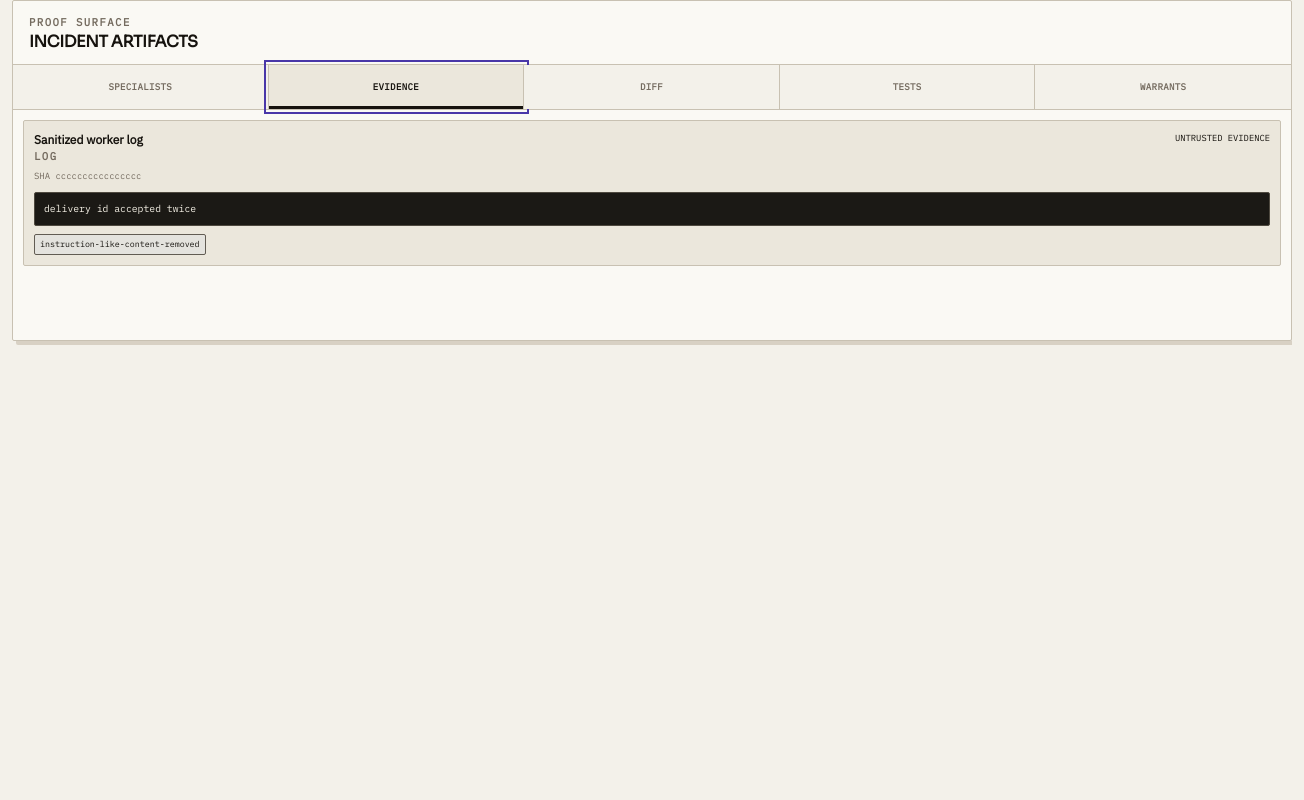
Test case: InspectorPanel › exposes evidence, diff, tests, and warrant as keyboard-operable tabs
Press Tab
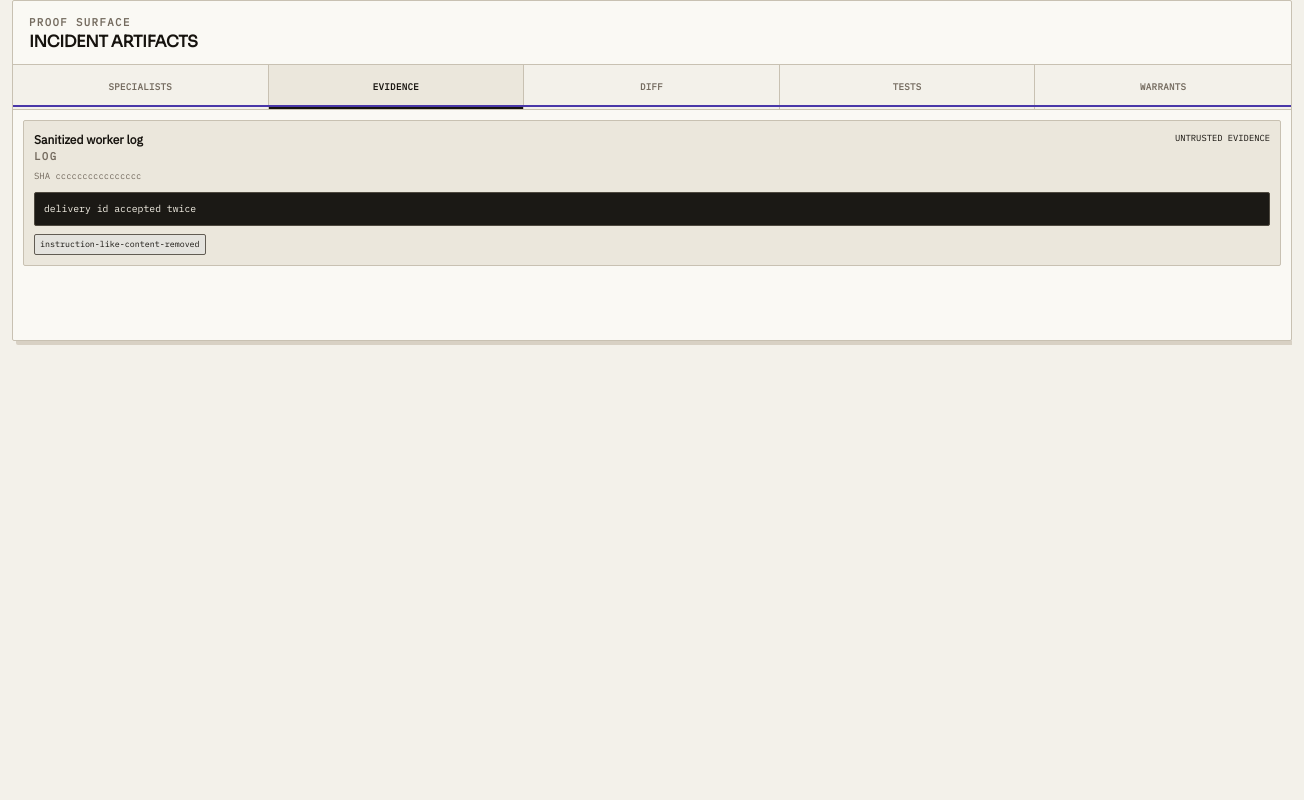
Check: the text "Sanitized worker log" is shown, box [34,131,143,150]
Check: the text "Untrusted evidence" is shown, box [1175,131,1270,145]
Click the tab "Diff": (652, 87) [524,65,780,109]
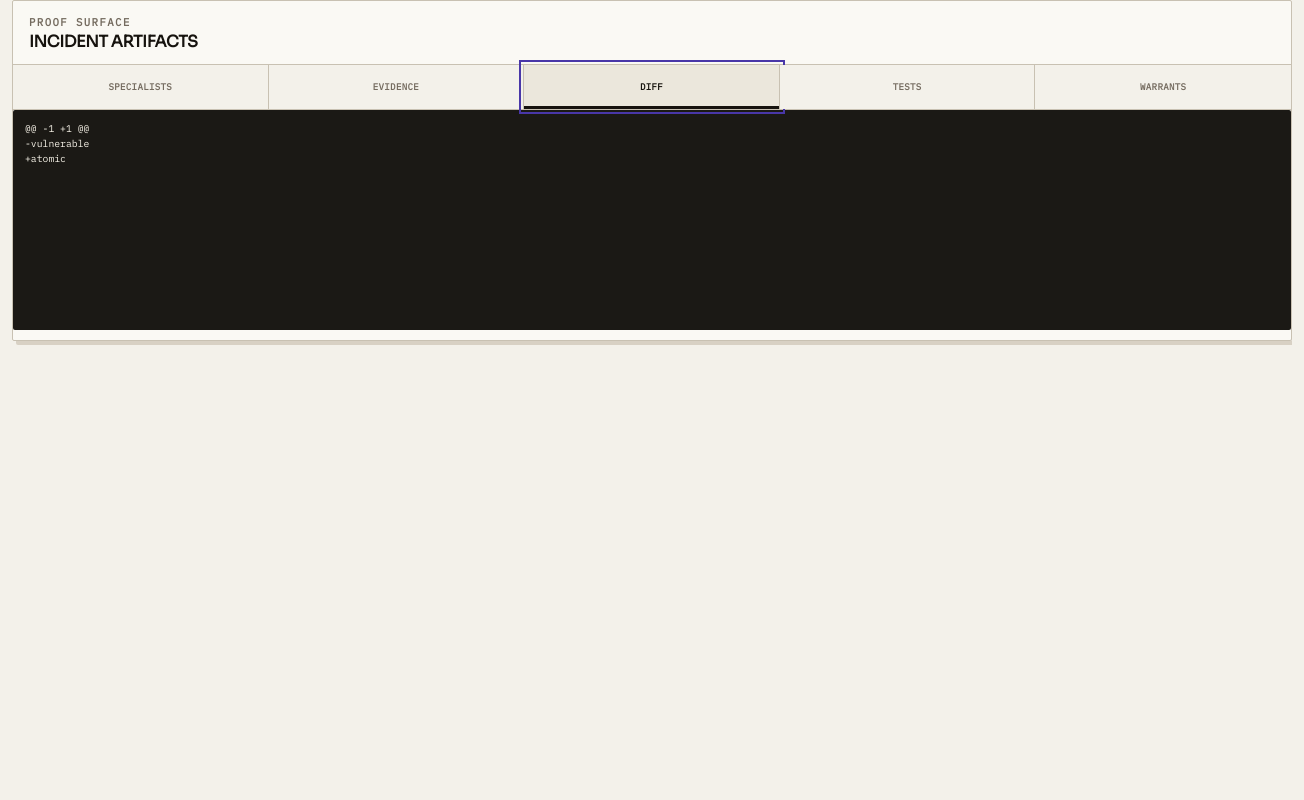
Check: the text "@@ -1 +1 @@ -vulnerable +atomic" is shown, box [13,110,1291,330]
Click the tab "Tests": (908, 87) [780,65,1035,109]
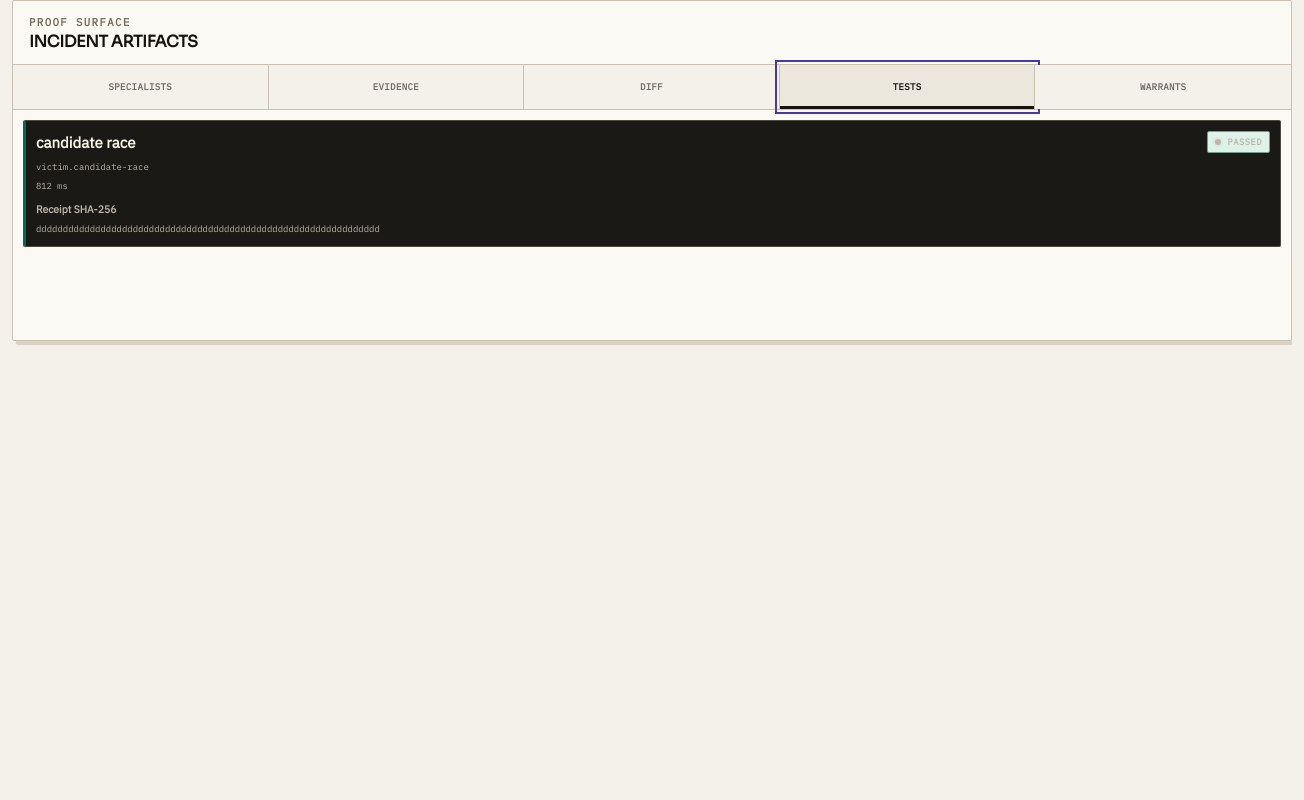
Check: the text "candidate race" is shown, box [36,133,135,152]
Click the tab "Warrants": (1163, 87) [1035,65,1291,109]
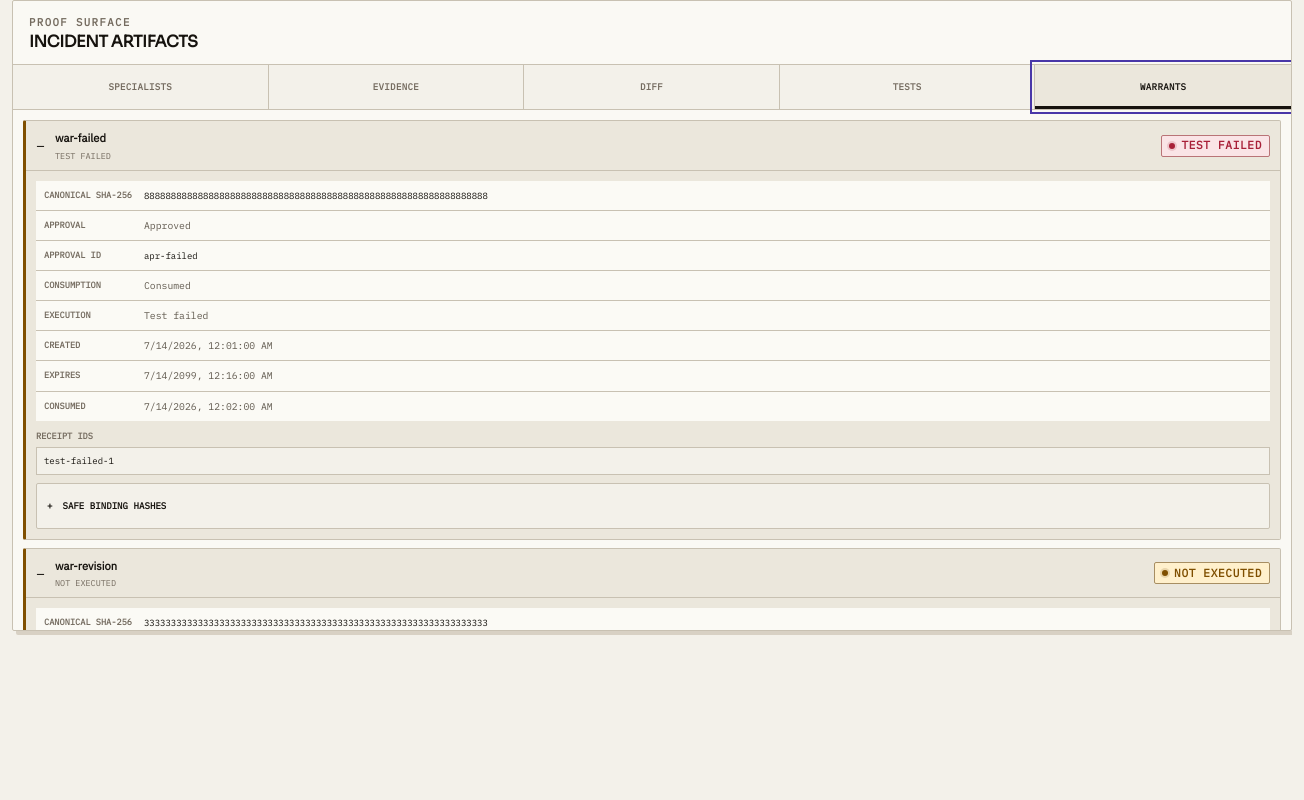
Check: the text "war-failed" is shown, box [55,130,111,148]
